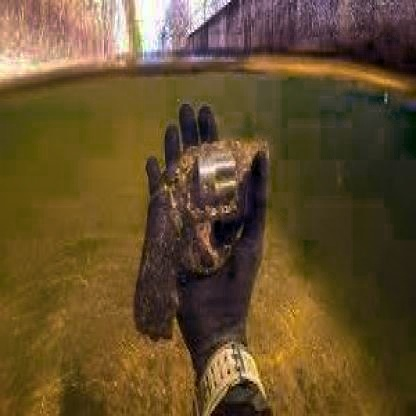misc: (132, 136, 269, 347)
